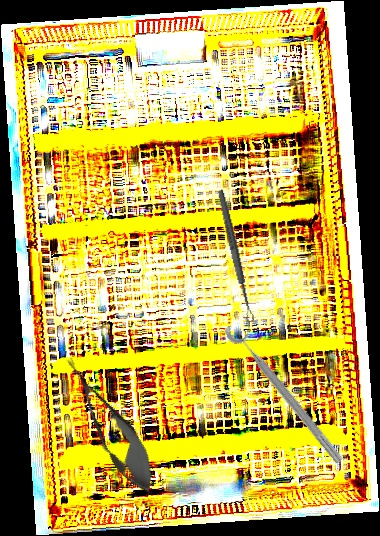Fixation Ring: (222, 313, 355, 468)
Micro Scissor: (51, 347, 170, 504)
Surgical Spoon: (215, 188, 256, 324)
